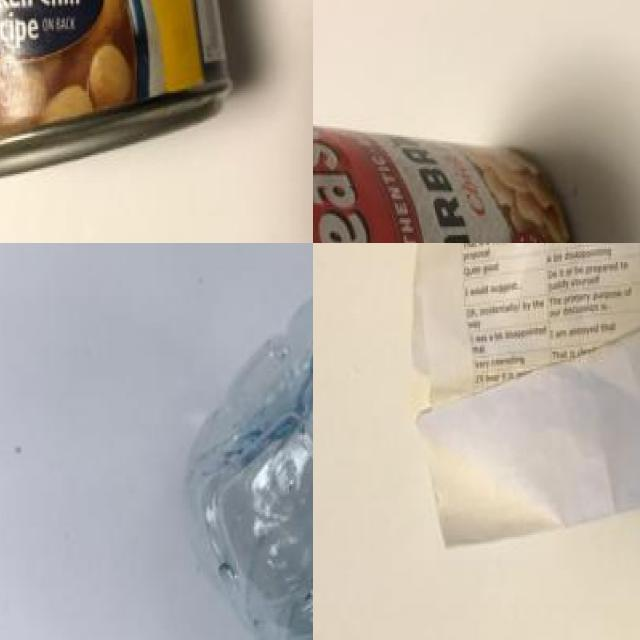paper: (410, 243, 640, 553)
plastic: (180, 253, 313, 640), (0, 0, 236, 193), (313, 90, 596, 243)
